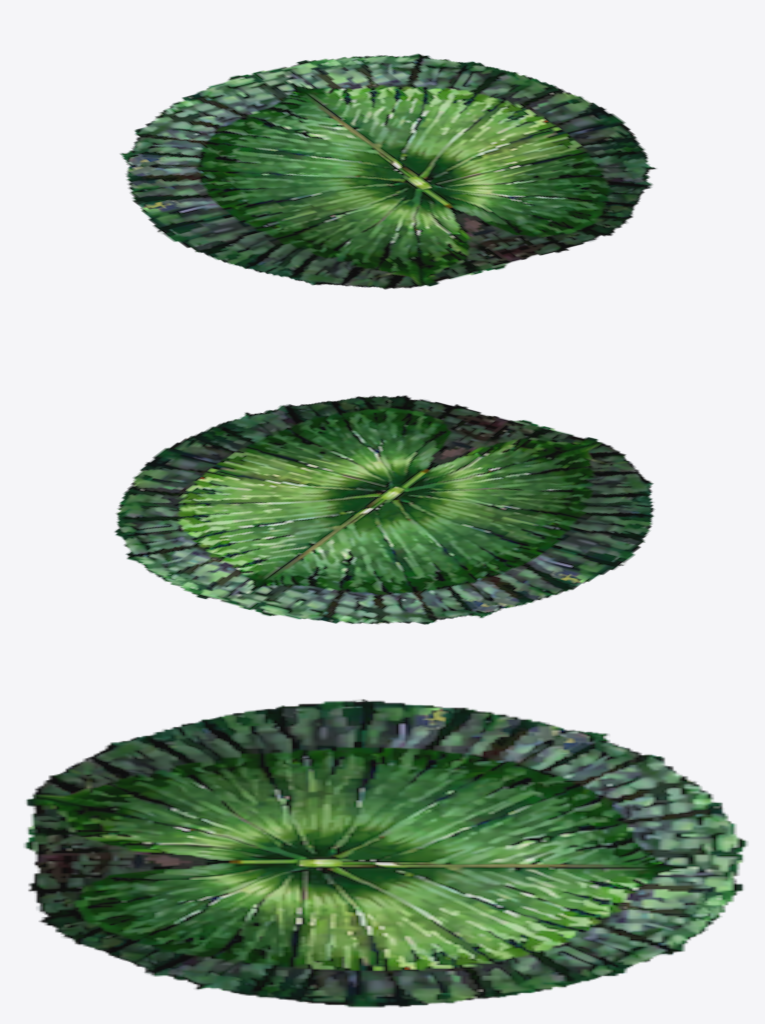
The model's file is AlienPlant_1_WLily.gltf.
3 views of the same model, one above another, from view 1: azimuth 30°, elevation 25°; view 2: azimuth 150°, elevation 25°; view 3: azimuth 270°, elevation 25° (orthographic). The views are drawn at different scales.
Visible parts, largest first — view 1: AlienPlant_1_WLily; view 2: AlienPlant_1_WLily; view 3: AlienPlant_1_WLily.
Part boxes in pixels (x1,y1,x2,y2): AlienPlant_1_WLily: (120, 53, 656, 289); AlienPlant_1_WLily: (114, 395, 654, 624); AlienPlant_1_WLily: (24, 699, 747, 1007).
Bounding box in the file's own units: 6.17 × 0.0592 × 6.16.
1 material, 1 textured.
